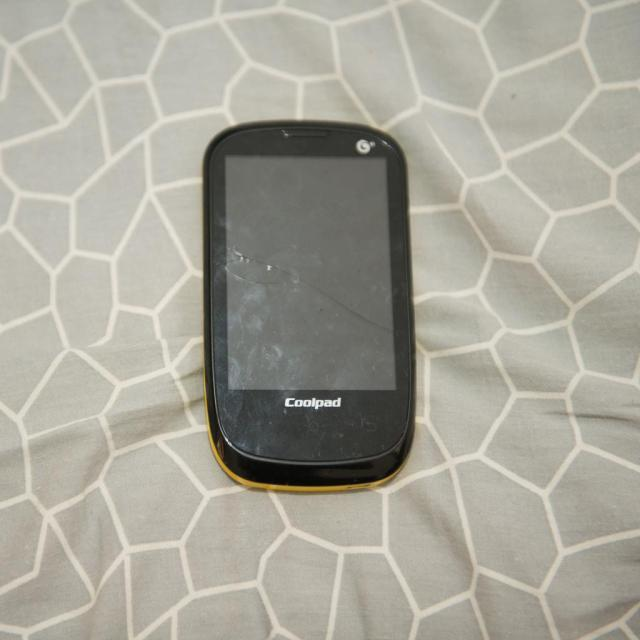Phone: (187, 118, 427, 506)
